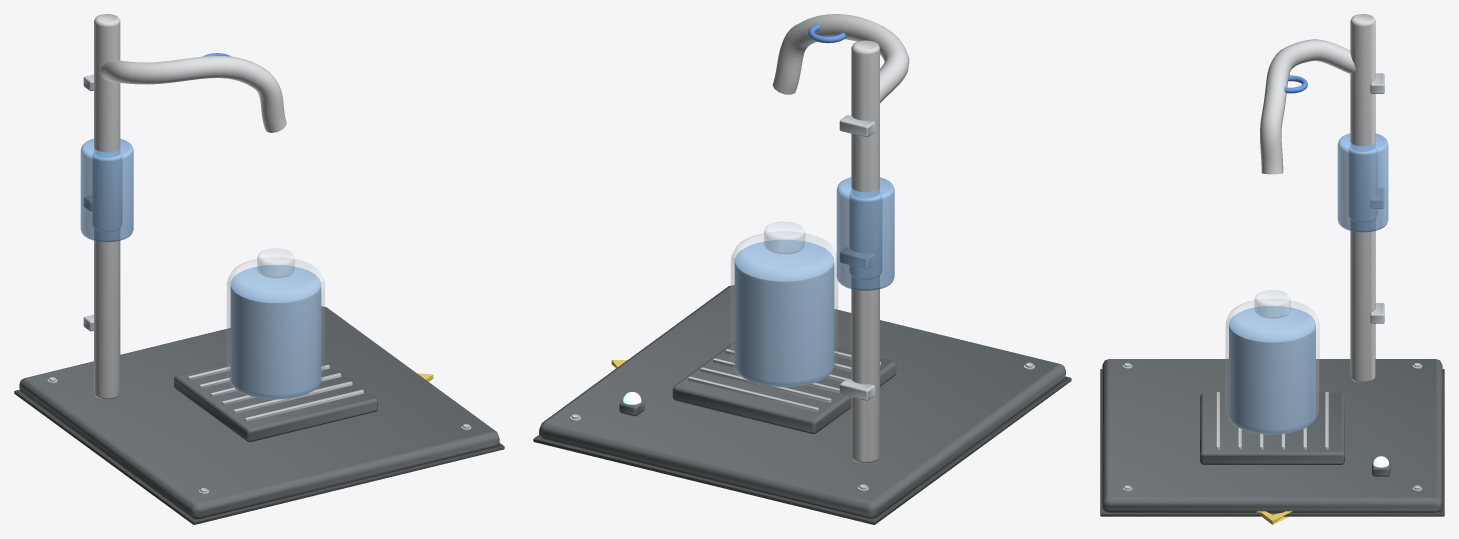
Rendered from toma_agua.glb.
The picture shows the model from 3 angles, left to right: view 1: azimuth 30°, elevation 25°; view 2: azimuth 150°, elevation 25°; view 3: azimuth 270°, elevation 25°; orthographic projection. The views are drawn at different scales.
Parts seen in each view (by area): view 1: zocalo, garrafa, agua_nivel, tubo_vertical, bandeja, filtro, brazo_grifo, zocalo_goma, filtro_cartucho, garrafa_cuello, bandeja_rejilla0, bandeja_rejilla1; view 2: zocalo, garrafa, agua_nivel, tubo_vertical, bandeja, filtro, brazo_grifo, zocalo_goma, filtro_cartucho, garrafa_cuello, bandeja_rejilla5, bandeja_rejilla4; view 3: zocalo, garrafa, agua_nivel, tubo_vertical, bandeja, filtro, brazo_grifo, zocalo_goma, filtro_cartucho, garrafa_cuello.
Boxes of the visible parts, bbox=[...] form: zocalo: bbox=[19, 306, 499, 519]; garrafa: bbox=[227, 257, 324, 399]; agua_nivel: bbox=[230, 265, 321, 399]; tubo_vertical: bbox=[94, 14, 120, 399]; bandeja: bbox=[174, 358, 377, 442]; filtro: bbox=[80, 138, 133, 242]; brazo_grifo: bbox=[100, 56, 286, 132]; zocalo_goma: bbox=[14, 389, 504, 524]; filtro_cartucho: bbox=[92, 152, 121, 231]; garrafa_cuello: bbox=[257, 248, 294, 277]; bandeja_rejilla0: bbox=[244, 389, 363, 422]; bandeja_rejilla1: bbox=[233, 381, 352, 413]; zocalo: bbox=[539, 285, 1065, 518]; garrafa: bbox=[731, 231, 837, 387]; agua_nivel: bbox=[734, 240, 834, 386]; tubo_vertical: bbox=[851, 40, 879, 463]; bandeja: bbox=[672, 342, 896, 433]; filtro: bbox=[836, 177, 894, 290]; brazo_grifo: bbox=[772, 14, 909, 102]; zocalo_goma: bbox=[533, 376, 1071, 524]; filtro_cartucho: bbox=[849, 191, 881, 279]; garrafa_cuello: bbox=[764, 221, 804, 254]; bandeja_rejilla5: bbox=[688, 376, 818, 412]; bandeja_rejilla4: bbox=[700, 367, 831, 403]; zocalo: bbox=[1102, 359, 1442, 512]; garrafa: bbox=[1225, 299, 1319, 434]; agua_nivel: bbox=[1229, 306, 1315, 434]; tubo_vertical: bbox=[1350, 14, 1375, 382]; bandeja: bbox=[1200, 393, 1344, 464]; filtro: bbox=[1337, 133, 1388, 232]; brazo_grifo: bbox=[1260, 39, 1355, 174]; zocalo_goma: bbox=[1100, 369, 1444, 516]; filtro_cartucho: bbox=[1349, 147, 1377, 222]; garrafa_cuello: bbox=[1254, 290, 1290, 318].
Bounding box in the file's own units: 1 × 1.15 × 0.95.
